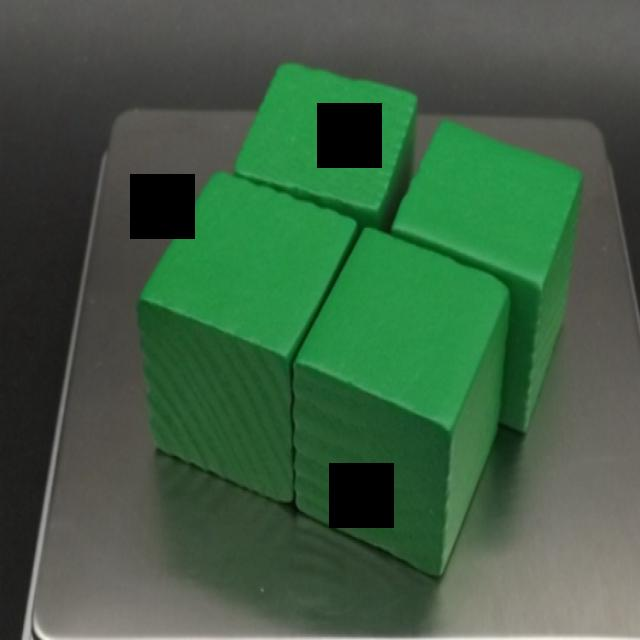green cube: (292, 225, 510, 578), (138, 168, 358, 504), (390, 116, 583, 436), (233, 61, 419, 233)
